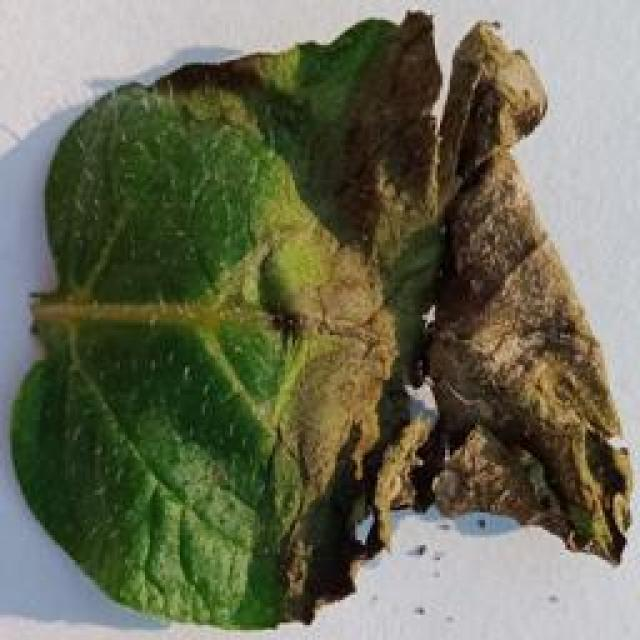Potato_Late_Blight: (11, 16, 624, 621), (18, 324, 289, 619)
